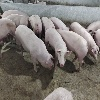heo: (15, 24, 54, 73), (61, 26, 88, 69), (43, 28, 71, 68), (74, 21, 99, 60), (6, 13, 30, 25), (1, 18, 16, 37), (30, 12, 42, 33), (52, 15, 68, 28), (41, 14, 54, 28), (88, 20, 100, 33), (94, 27, 100, 46)
